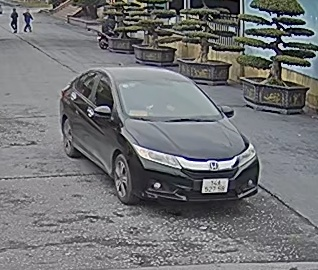vehicle plate: (201, 174, 229, 192)
